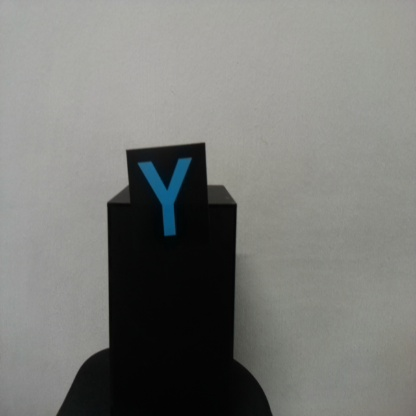id_14: (126, 151, 207, 257)
